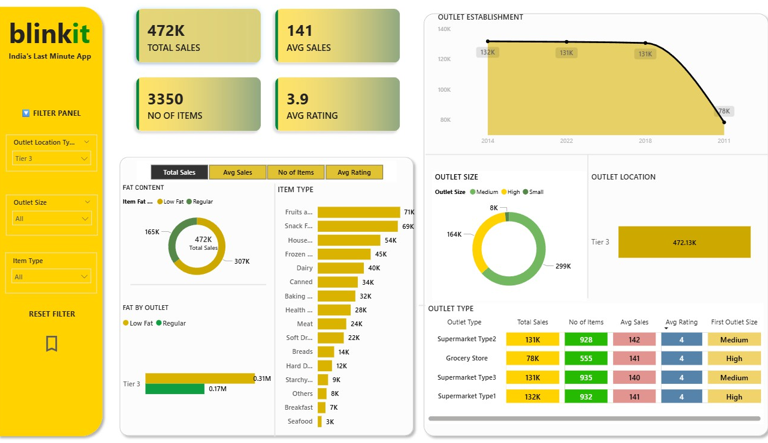

The dashboard page shown, as its layout file describes it:
{"tool":"powerbi","page":{"name":"Page 1","canvas":[1400,800],"ordinal":0},"visuals":[{"type":"shape","box":[1.4,15.7,205.7,784.3],"z":0},{"type":"textbox","box":[21.4,32.9,162.9,82.9],"z":1000},{"type":"textbox","box":[24.3,98.6,160,30],"z":2000},{"type":"cardVisual","fields":{"Data":["BlinkIT Grocery Data.Total Sales","BlinkIT Grocery Data.Avg Sales","BlinkIT Grocery Data.No of Items","BlinkIT Grocery Data.Avg Rating"]},"box":[230,0,532.9,277.1],"z":3000},{"type":"shape","box":[219.4,284,543.9,515.3],"z":4000},{"type":"donutChart","title":"FAT CONTENT","fields":{"Y":["BlinkIT Grocery Data.Total Sales"],"Category":["BlinkIT Grocery Data.Item Fat Content"]},"box":[229.6,340.7,276.2,183.1],"z":5000},{"type":"slicer","fields":{"Values":["Matrics.Matrics"]},"box":[258.1,300.2,465.3,38],"z":6000},{"type":"cardVisual","fields":{"Data":["BlinkIT Grocery Data.Total Sales"]},"box":[315.7,407.1,125.7,78.6],"z":7000},{"type":"clusteredBarChart","title":"FAT BY OUTLET","fields":{"Y":["BlinkIT Grocery Data.Total Sales"],"Category":["BlinkIT Grocery Data.Outlet Location Type"],"Series":["BlinkIT Grocery Data.Item Fat Content"]},"box":[229.6,553.8,276.2,238.6],"z":8000},{"type":"shape","box":[247.6,499.8,243.1,42],"z":9000},{"type":"shape","box":[475.8,340.7,61.5,451.8],"z":10000},{"type":"barChart","title":"ITEM TYPE","fields":{"Y":["BlinkIT Grocery Data.Total Sales"],"Category":["BlinkIT Grocery Data.Item Type"]},"box":[507.3,342.2,255.1,448.8],"z":11000},{"type":"shape","box":[764.1,28.2,635.4,772.1],"z":12000},{"type":"lineChart","title":"OUTLET ESTABLISHMENT","fields":{"Category":["BlinkIT Grocery Data.Outlet Establishment Year"],"Y":["BlinkIT Grocery Data.Total Sales"]},"box":[793.6,33.5,579.1,248],"z":13000},{"type":"shape","box":[776.1,277.5,623.3,22.8],"z":14000},{"type":"shape","box":[1050.9,289.5,32.2,256],"z":15000},{"type":"funnel","title":"OUTLET LOCATION","fields":{"Y":["Sum(BlinkIT Grocery Data.Sales)"],"Category":["BlinkIT Grocery Data.Outlet Location Type"]},"box":[1068.4,319,300.3,234.6],"z":16000},{"type":"shape","box":[764.3,550,600,17.1],"z":17000},{"type":"pivotTable","title":"OUTLET TYPE","fields":{"Rows":["BlinkIT Grocery Data.Outlet Type"],"Values":["BlinkIT Grocery Data.Total Sales","BlinkIT Grocery Data.No of Items","BlinkIT Grocery Data.Avg Sales","BlinkIT Grocery Data.Avg Rating","Min(BlinkIT Grocery Data.Outlet Size)"]},"box":[776.1,553.6,605.9,215.8],"z":18000},{"type":"slicer","fields":{"Values":["BlinkIT Grocery Data.Outlet Location Type"]},"box":[25.7,252.9,162.9,65.7],"z":19000},{"type":"slicer","fields":{"Values":["BlinkIT Grocery Data.Outlet Size"]},"box":[25.7,360,164.3,72.9],"z":20000},{"type":"slicer","fields":{"Values":["BlinkIT Grocery Data.Item Type"]},"box":[24.3,464.3,164.3,72.9],"z":21000},{"type":"donutChart","title":"OUTLET SIZE","fields":{"Y":["BlinkIT Grocery Data.Total Sales"],"Category":["BlinkIT Grocery Data.Outlet Size"]},"box":[788.6,318.6,275.7,231.4],"z":22000},{"type":"textbox","box":[47.1,201.4,120,38.6],"z":23000},{"type":"actionButton","box":[88.5,606.1,37.5,40.2],"z":24000},{"type":"textbox","box":[48.3,559,119.3,37.5],"z":25000}]}

Visuals, with their boxes in screenshot pixels (x1, y1, x2, y2), scaled from the page's 1400x800 canvas onto the 768x443 screenshot:
shape: (1,9,114,442)
textbox: (12,18,101,64)
textbox: (13,55,101,71)
cardVisual - BlinkIT Grocery Data.Total Sales x BlinkIT Grocery Data.Avg Sales: (126,0,419,153)
shape: (120,157,419,442)
"FAT CONTENT" donutChart: (126,189,277,290)
slicer - Matrics.Matrics: (142,166,397,187)
cardVisual - BlinkIT Grocery Data.Total Sales: (173,225,242,269)
"FAT BY OUTLET" clusteredBarChart: (126,307,277,439)
shape: (136,277,269,300)
shape: (261,189,295,439)
"ITEM TYPE" barChart: (278,189,418,438)
shape: (419,16,767,442)
"OUTLET ESTABLISHMENT" lineChart: (435,19,753,156)
shape: (426,154,767,166)
shape: (576,160,594,302)
"OUTLET LOCATION" funnel: (586,177,751,307)
shape: (419,305,748,314)
"OUTLET TYPE" pivotTable: (426,307,758,426)
slicer - BlinkIT Grocery Data.Outlet Location Type: (14,140,103,176)
slicer - BlinkIT Grocery Data.Outlet Size: (14,199,104,240)
slicer - BlinkIT Grocery Data.Item Type: (13,257,103,297)
"OUTLET SIZE" donutChart: (433,176,584,305)
textbox: (26,112,92,133)
actionButton: (49,336,69,358)
textbox: (26,310,92,330)
